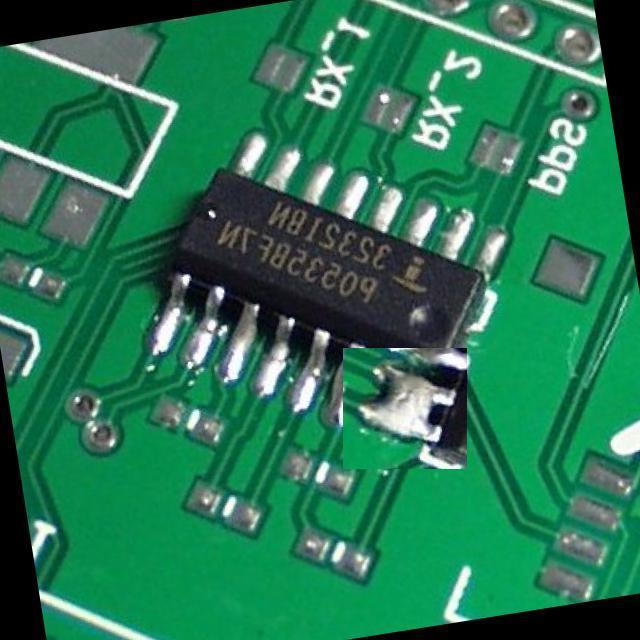damged: (342, 349, 467, 469)
